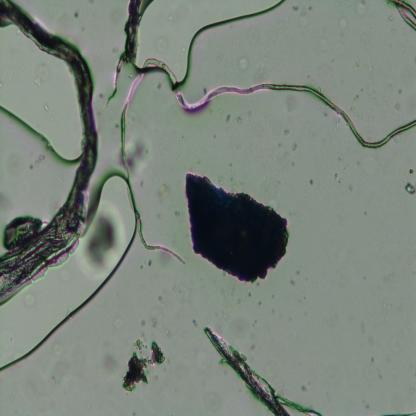Air bubble: (0, 170, 142, 377), (136, 0, 286, 85), (0, 99, 81, 166)
Background material: (122, 336, 166, 392), (88, 206, 122, 274), (126, 134, 150, 175), (144, 291, 168, 331), (285, 4, 316, 27), (355, 153, 380, 180), (34, 59, 50, 86), (228, 52, 251, 70), (350, 87, 366, 108), (403, 180, 416, 198), (336, 16, 350, 32), (156, 42, 170, 56), (354, 0, 368, 13), (280, 125, 290, 139), (330, 170, 340, 183), (223, 110, 231, 125), (307, 175, 316, 186), (348, 182, 354, 192), (390, 14, 394, 22)
Cellulose filter fibre: (120, 58, 416, 266), (0, 0, 99, 306), (204, 328, 294, 416), (123, 1, 143, 64), (391, 0, 416, 36)
Fragment: (186, 170, 290, 284)
